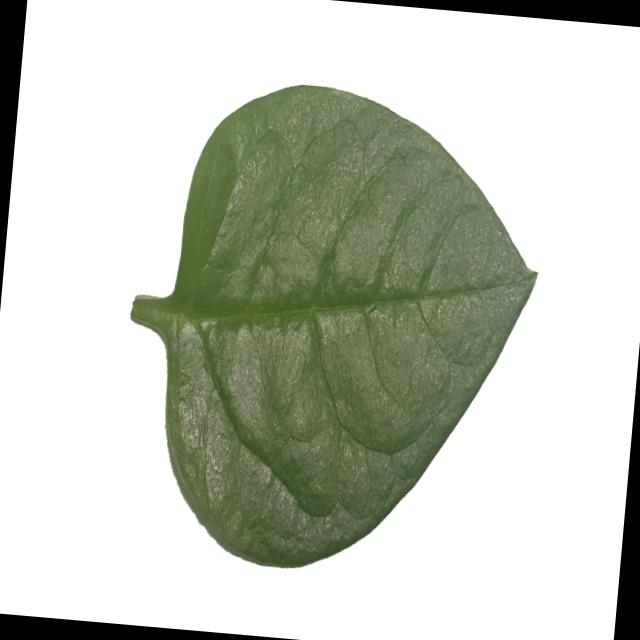Medicinal-Basale: (109, 64, 553, 586)
